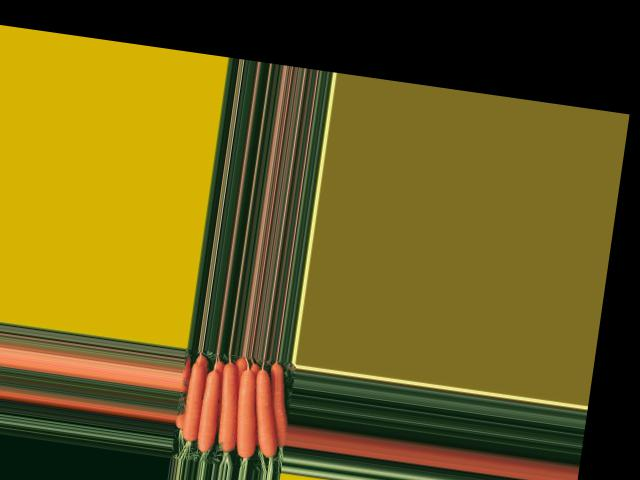carrot: (258, 364, 296, 450)
